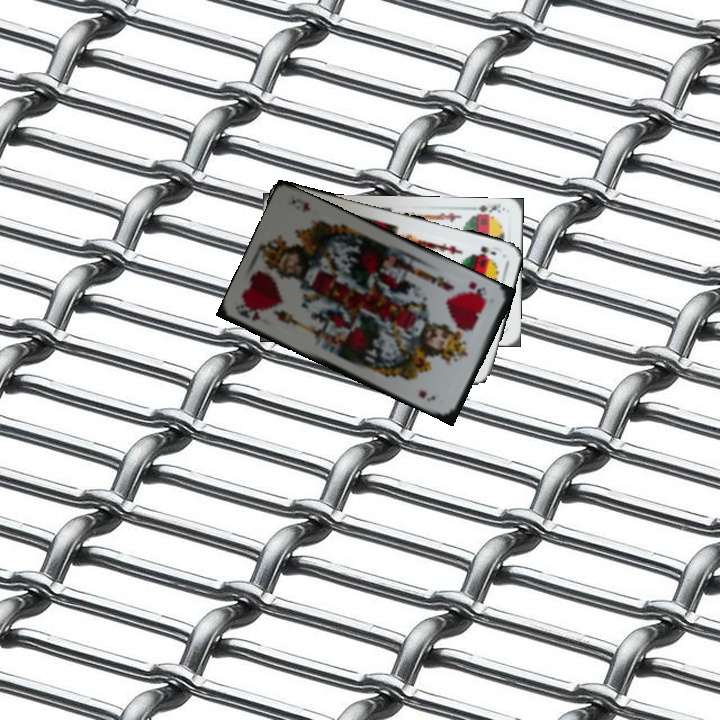HK: (465, 277, 490, 302), (234, 306, 263, 324)
SK: (466, 201, 507, 221), (475, 242, 499, 259)
